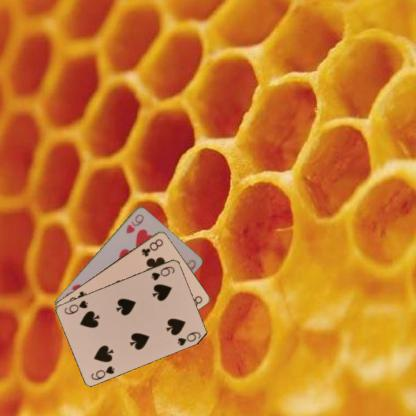6s: (148, 263, 176, 282), (89, 363, 116, 381)
8c: (139, 235, 164, 258)
9h: (124, 211, 145, 234)
